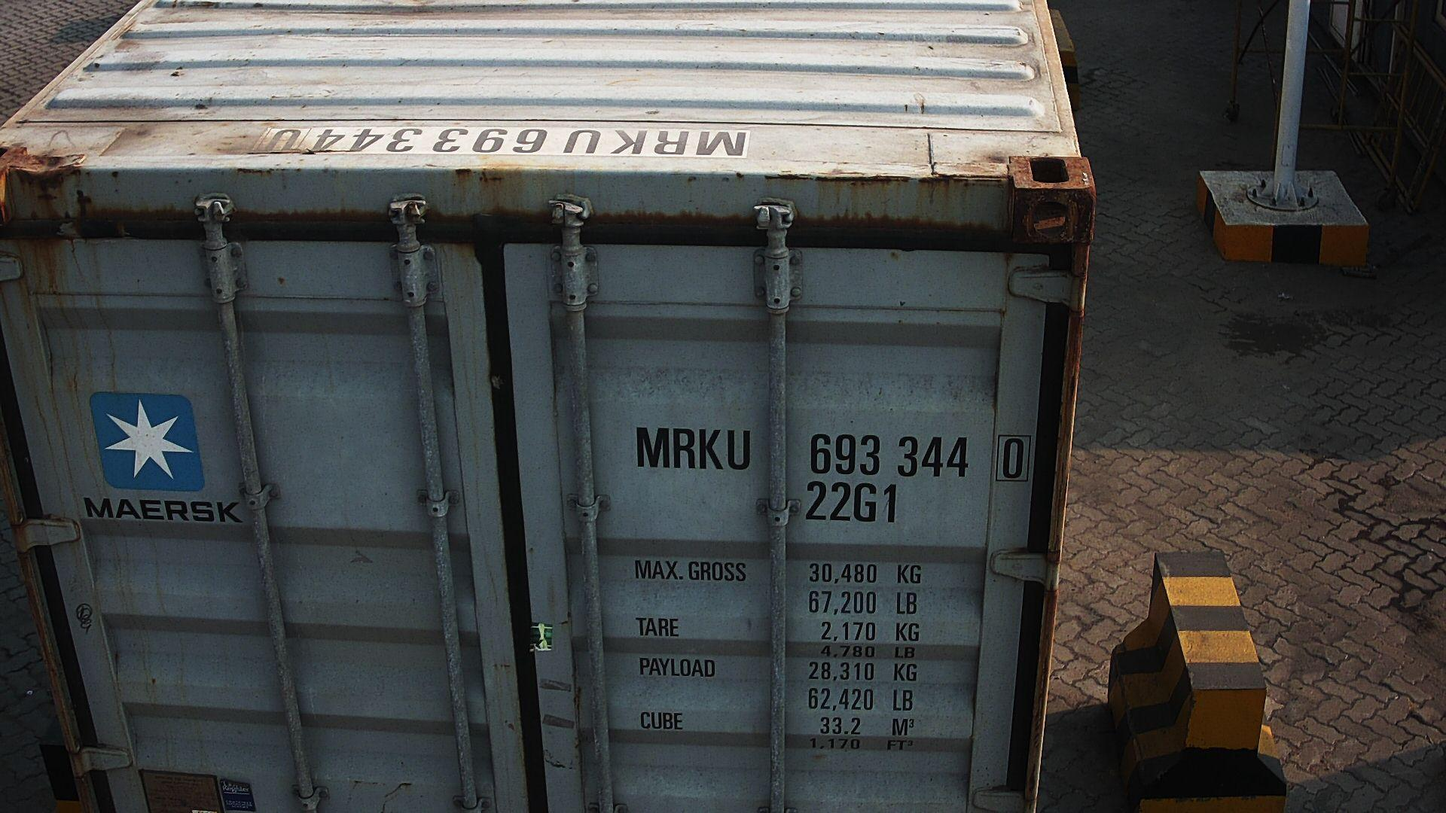container-numbers: (629, 423, 1038, 488), (250, 122, 764, 157), (800, 478, 903, 527)
